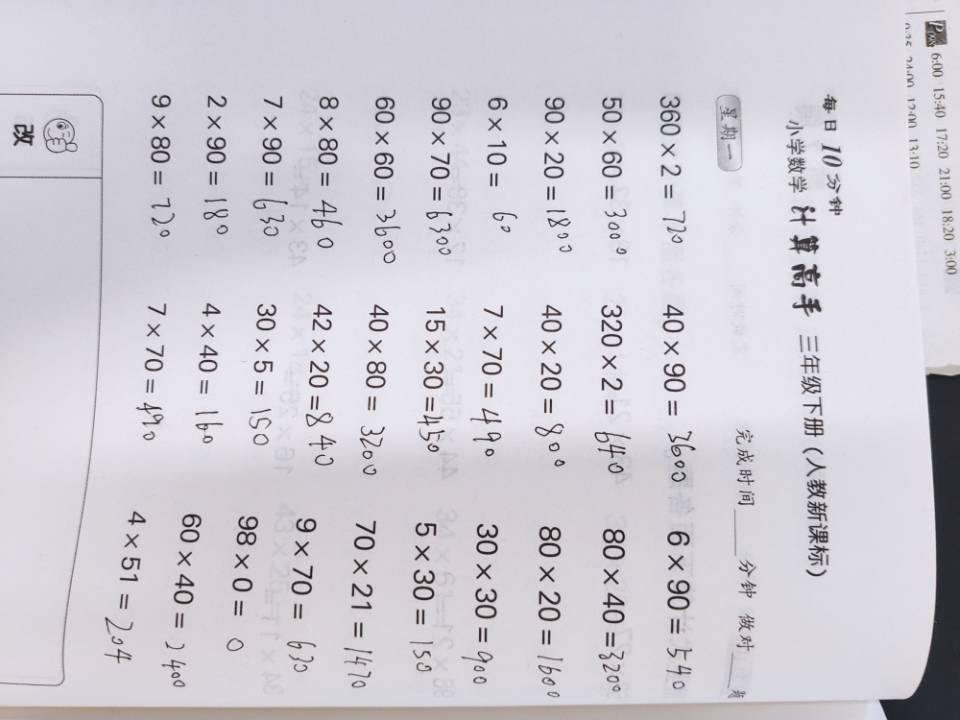equation: (89, 483, 155, 682), (526, 297, 583, 489), (587, 299, 645, 487), (649, 304, 709, 485), (466, 288, 521, 485), (520, 514, 573, 706), (289, 292, 343, 480), (584, 516, 639, 698), (298, 74, 349, 269), (348, 294, 399, 488), (397, 502, 450, 688), (456, 506, 506, 700), (274, 505, 328, 682), (468, 77, 521, 256), (361, 85, 412, 269), (529, 87, 582, 263), (645, 86, 702, 249), (587, 84, 639, 262), (417, 85, 467, 262), (337, 510, 384, 693), (162, 503, 207, 693), (410, 294, 458, 469), (126, 289, 176, 455), (246, 84, 294, 255), (137, 77, 185, 246), (655, 524, 702, 693), (186, 292, 234, 453), (239, 288, 283, 456), (217, 504, 262, 667), (195, 85, 239, 245)
